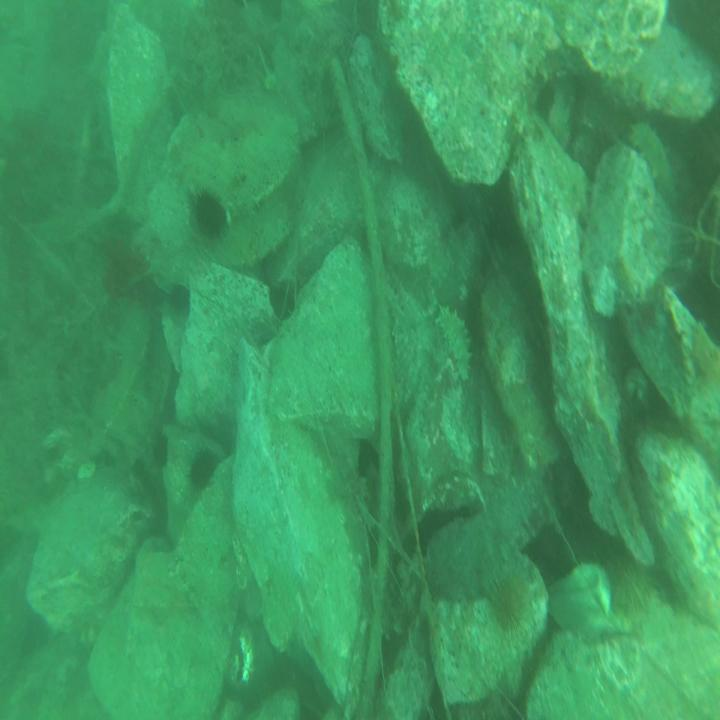echinus: (484, 566, 541, 644), (184, 191, 234, 244), (189, 447, 217, 491)
holothurian: (218, 191, 300, 268), (624, 114, 678, 217), (486, 469, 542, 540), (436, 303, 473, 386)
